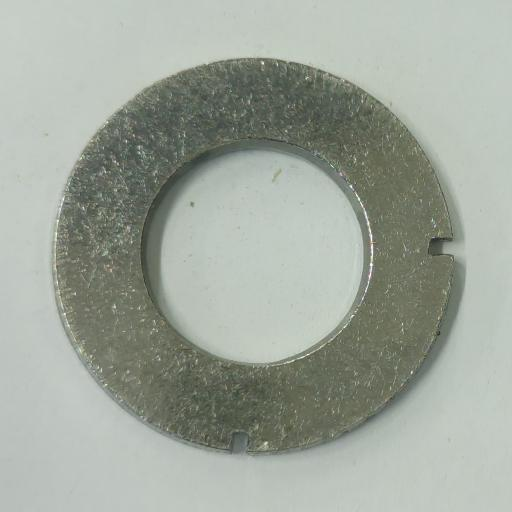burr: (426, 236, 455, 258)
